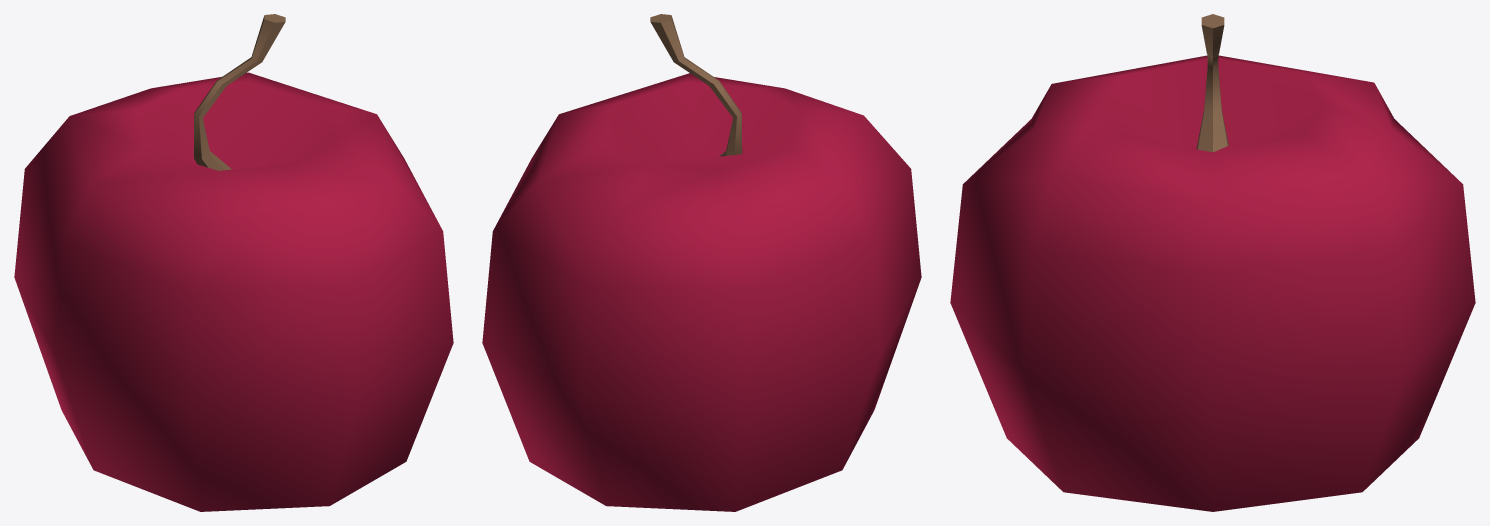
The model's file is YardFruit.fbx.
The picture shows the model from 3 angles, left to right: view 1: azimuth 30°, elevation 25°; view 2: azimuth 150°, elevation 25°; view 3: azimuth 270°, elevation 25°; orthographic projection. The views are drawn at different scales.
Visible parts, largest first — view 1: pCube314; view 2: pCube314; view 3: pCube314.
Boxes of the visible parts, bbox=[...] form: pCube314: bbox=[14, 14, 453, 511]; pCube314: bbox=[482, 14, 921, 511]; pCube314: bbox=[950, 14, 1475, 511].
Size of the model in its own units: 2.18 by 2.6 by 2.58.
